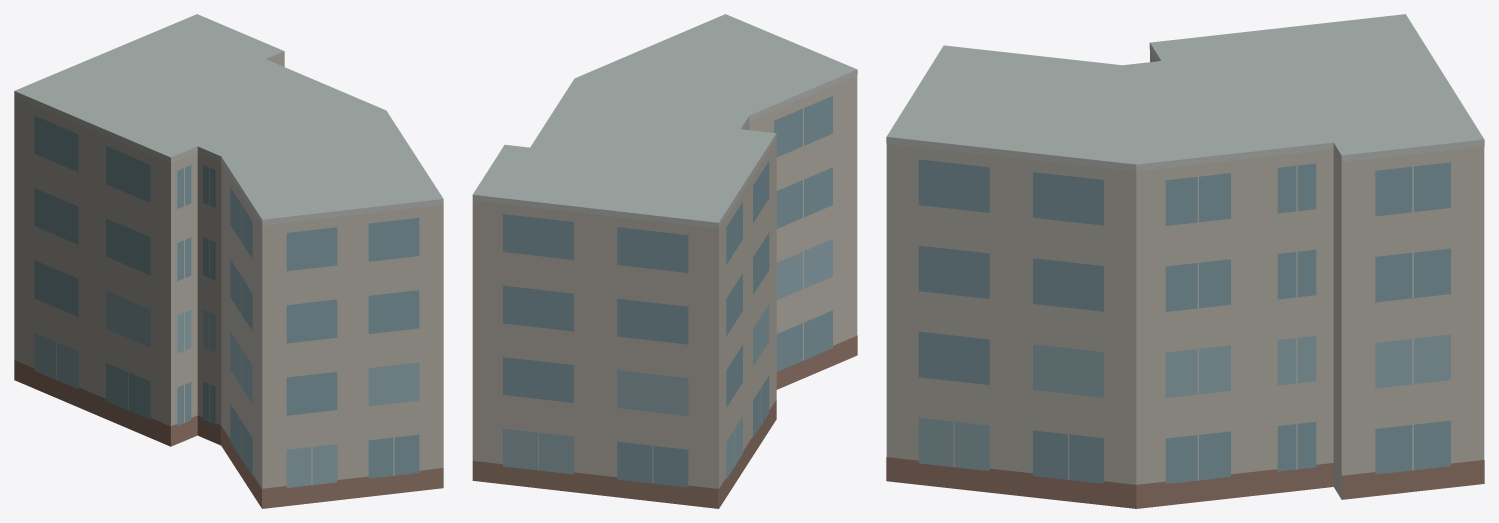
Rendered from residential-a9e33165-815b-4b3e-890a-095d3e5fbcf5.glb.
The picture shows the model from 3 angles, left to right: view 1: azimuth 30°, elevation 25°; view 2: azimuth 150°, elevation 25°; view 3: azimuth 270°, elevation 25°; orthographic projection. The views are drawn at different scales.
Visible parts, largest first — view 1: residential-a9e33165-815b-4b3e-890a-095d3e5fbcf5.tmp; view 2: residential-a9e33165-815b-4b3e-890a-095d3e5fbcf5.tmp; view 3: residential-a9e33165-815b-4b3e-890a-095d3e5fbcf5.tmp.
Boxes of the visible parts, box(x1,y1,x2,y2) form: residential-a9e33165-815b-4b3e-890a-095d3e5fbcf5.tmp: box(14, 14, 443, 508); residential-a9e33165-815b-4b3e-890a-095d3e5fbcf5.tmp: box(472, 14, 857, 508); residential-a9e33165-815b-4b3e-890a-095d3e5fbcf5.tmp: box(886, 14, 1484, 508).
Size of the model in its own units: 11.45 by 12.2 by 19.21.
